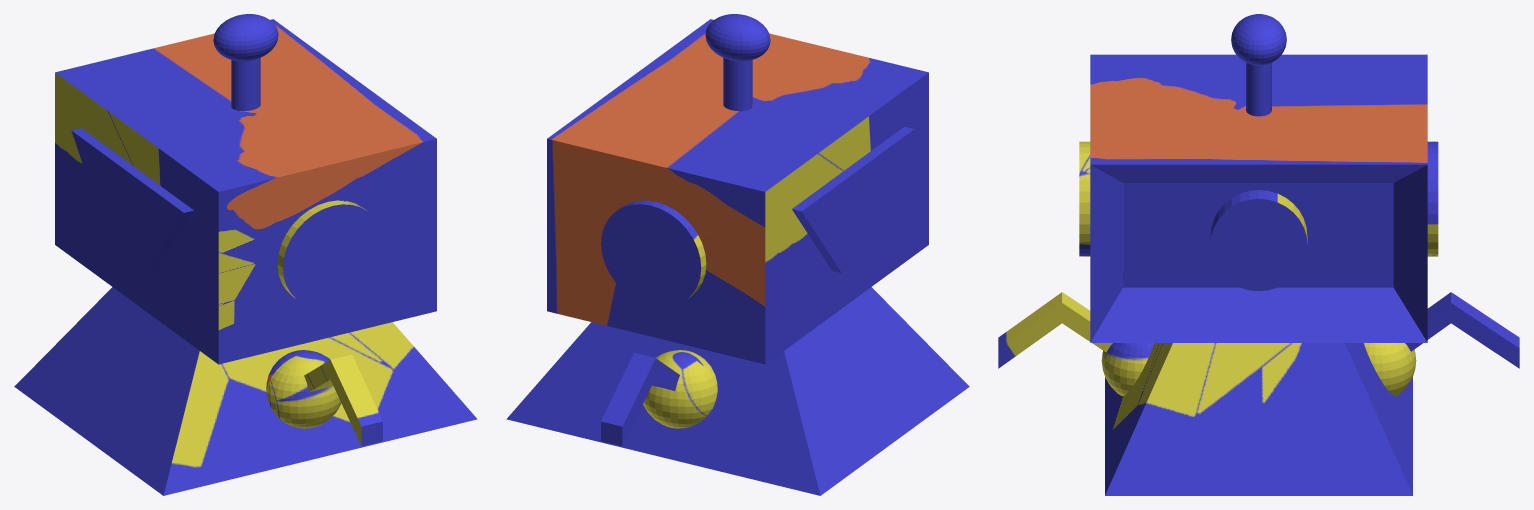
Rendered from Enemy1.obj.
The picture shows the model from 3 angles, left to right: view 1: azimuth 30°, elevation 25°; view 2: azimuth 150°, elevation 25°; view 3: azimuth 270°, elevation 25°; orthographic projection. The views are drawn at different scales.
Parts seen in each view (by area): view 1: 円柱; view 2: 円柱; view 3: 円柱.
Boxes of the visible parts, <box> form: 円柱: <box>14,14,477,495</box>; 円柱: <box>506,14,969,495</box>; 円柱: <box>998,14,1519,495</box>.
Size of the model in its own units: 4.3 by 5.05 by 5.99.
Materials: 1 (1 with a texture image).
